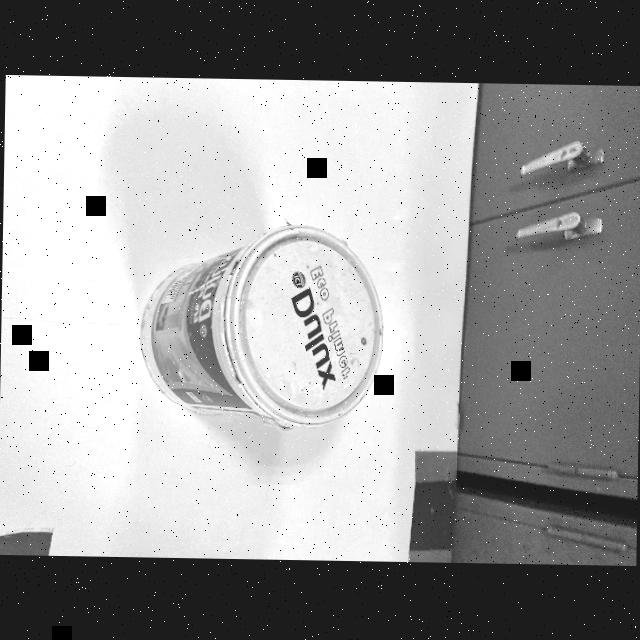paint_bucket: (134, 218, 396, 430)
